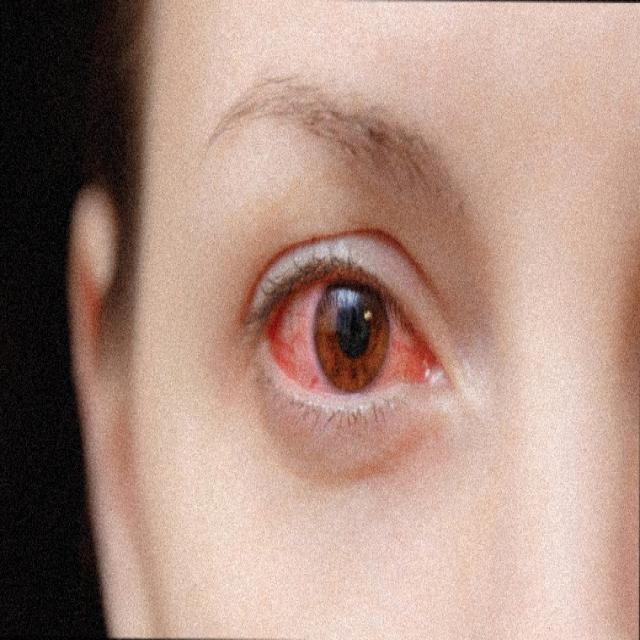Keratitis: (248, 247, 447, 419)
